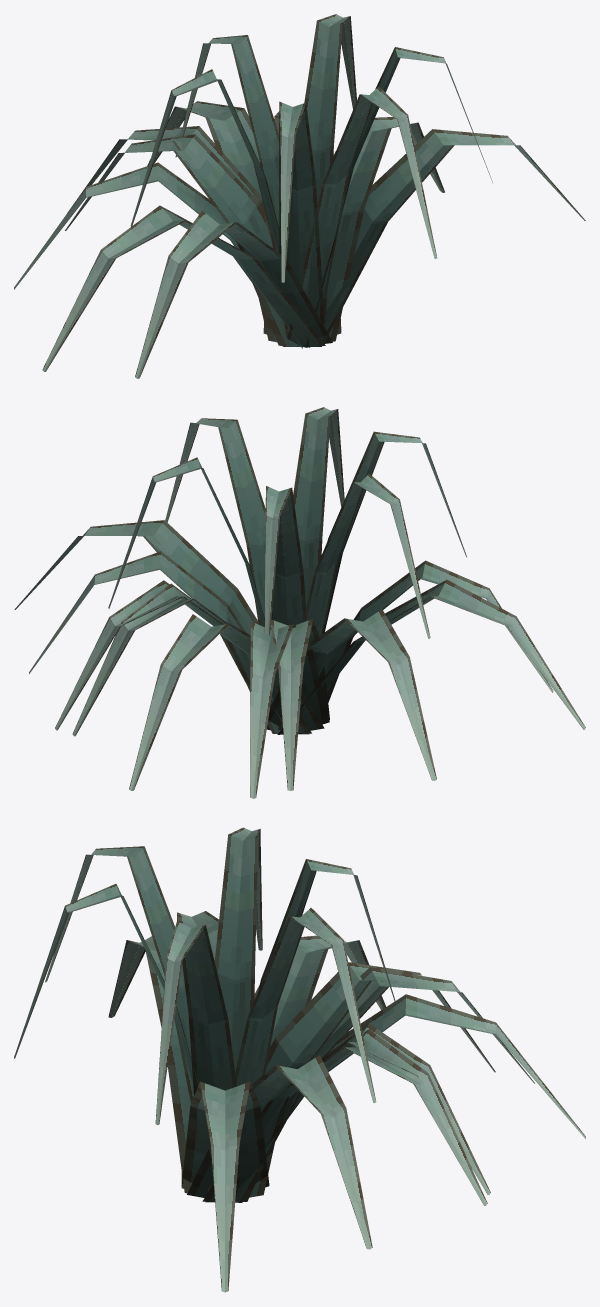
Rendered from agave.glb.
3 renders of one model, top to bottom at view 1: azimuth 30°, elevation 25°; view 2: azimuth 150°, elevation 25°; view 3: azimuth 270°, elevation 25°, orthographic. The views are drawn at different scales.
Parts seen in each view (by area): view 1: agave; view 2: agave; view 3: agave.
Part boxes in pixels (bbox=[...]): agave: bbox=[14, 14, 585, 378]; agave: bbox=[14, 407, 585, 798]; agave: bbox=[14, 827, 585, 1292].
Size of the model in its own units: 1.95 by 0.9479 by 1.52.
1 material, 1 textured.
